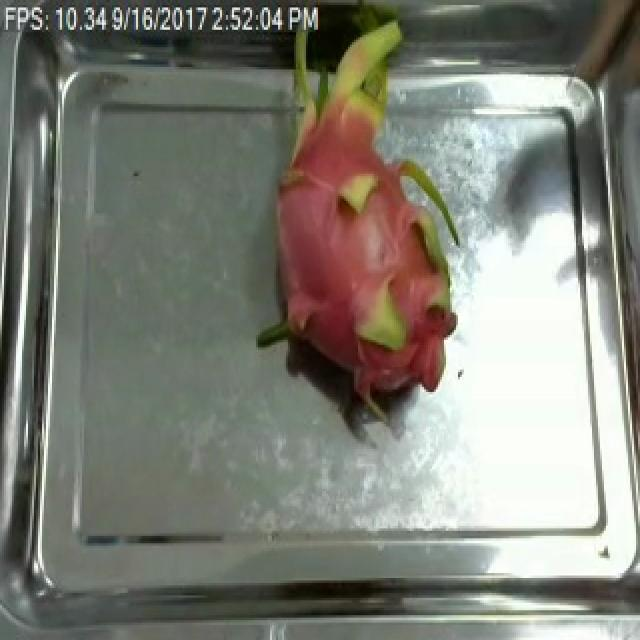fruit: (256, 5, 490, 422)
